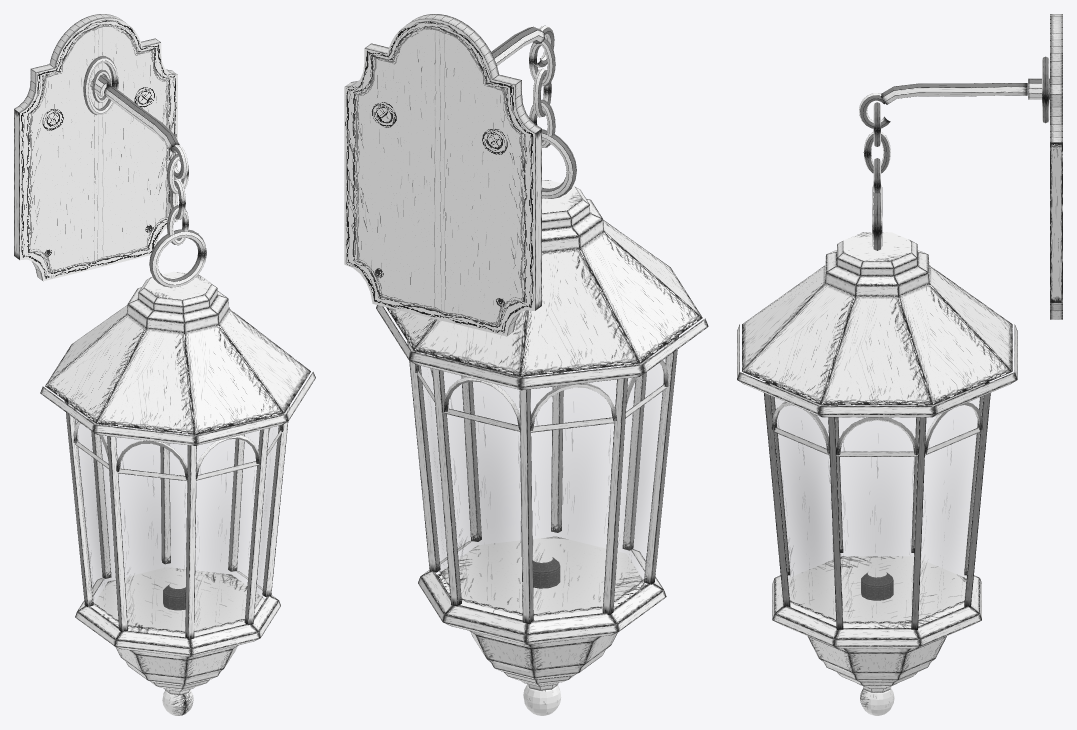
Rendered from vintage-pencil-lantern.meshopt.glb.
3 views of the same model, side by side, from view 1: azimuth 30°, elevation 25°; view 2: azimuth 150°, elevation 25°; view 3: azimuth 270°, elevation 25° (orthographic). The views are drawn at different scales.
Visible parts, largest first — view 1: Wall_Mounting_Plate, Faceted_Roof, Glass_Panels, Main_Lantern_Frame, Lower_Housing, Chain_and_Hanging_Hardware, Bottom_Spherical_Finial; view 2: Wall_Mounting_Plate, Glass_Panels, Faceted_Roof, Main_Lantern_Frame, Lower_Housing, Chain_and_Hanging_Hardware, Bottom_Spherical_Finial; view 3: Faceted_Roof, Glass_Panels, Lower_Housing, Main_Lantern_Frame, Chain_and_Hanging_Hardware, Wall_Mounting_Plate, Bottom_Spherical_Finial.
Boxes of the visible parts, x1,y1,x2,y2 form: Wall_Mounting_Plate: (14,14,177,281); Faceted_Roof: (40,271,315,445); Glass_Panels: (72,406,279,633); Main_Lantern_Frame: (64,401,289,639); Lower_Housing: (75,567,280,691); Chain_and_Hanging_Hardware: (83,56,206,287); Bottom_Spherical_Finial: (162,685,193,715); Wall_Mounting_Plate: (344,14,541,336); Glass_Panels: (419,345,667,616); Faceted_Roof: (376,180,708,390); Main_Lantern_Frame: (407,336,678,624); Lower_Housing: (418,536,666,686); Chain_and_Hanging_Hardware: (491,25,576,198); Bottom_Spherical_Finial: (523,678,561,715); Faceted_Roof: (737,232,1017,417); Glass_Panels: (772,397,982,624); Lower_Housing: (772,556,981,688); Main_Lantern_Frame: (764,381,990,629); Chain_and_Hanging_Hardware: (859,56,1049,250); Wall_Mounting_Plate: (1050,14,1062,319); Bottom_Spherical_Finial: (860,686,894,715).
Size of what is drawn, in the model's own units: 0.3732 by 1.02 by 0.4336.
2 materials, 2 textured.
